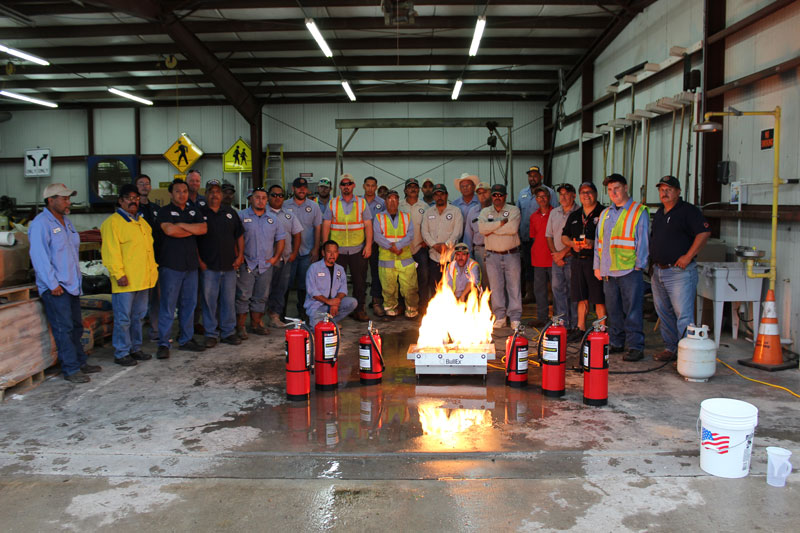fire: (283, 316, 312, 402), (582, 316, 609, 406), (313, 313, 340, 392), (541, 313, 567, 395), (358, 321, 384, 384), (505, 321, 529, 384)
